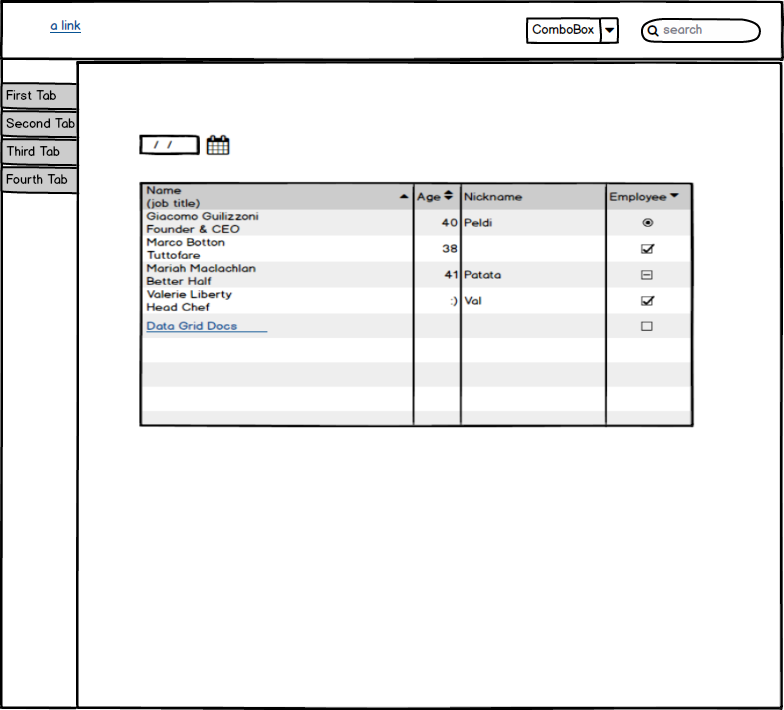date_picker: (132, 129, 238, 160)
navlink: (40, 11, 94, 37)
search: (639, 12, 766, 45)
select_box: (520, 12, 625, 48)
sidebar: (1, 73, 84, 202)
table: (137, 173, 699, 432)
